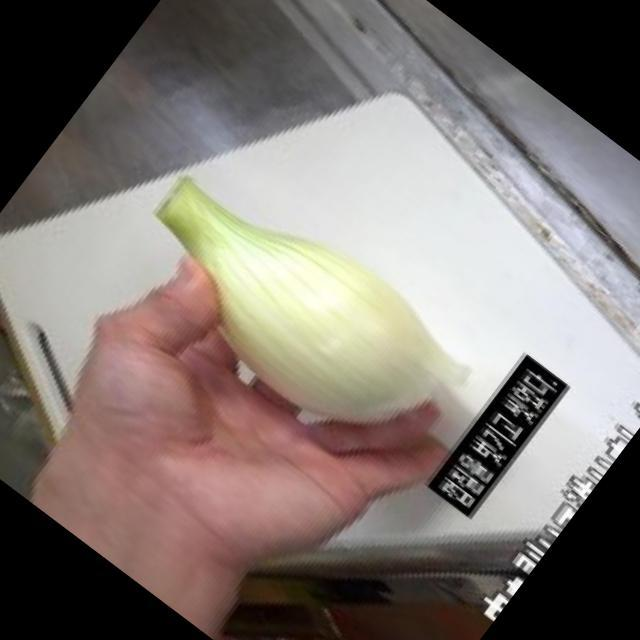Onion: (165, 168, 440, 417)
